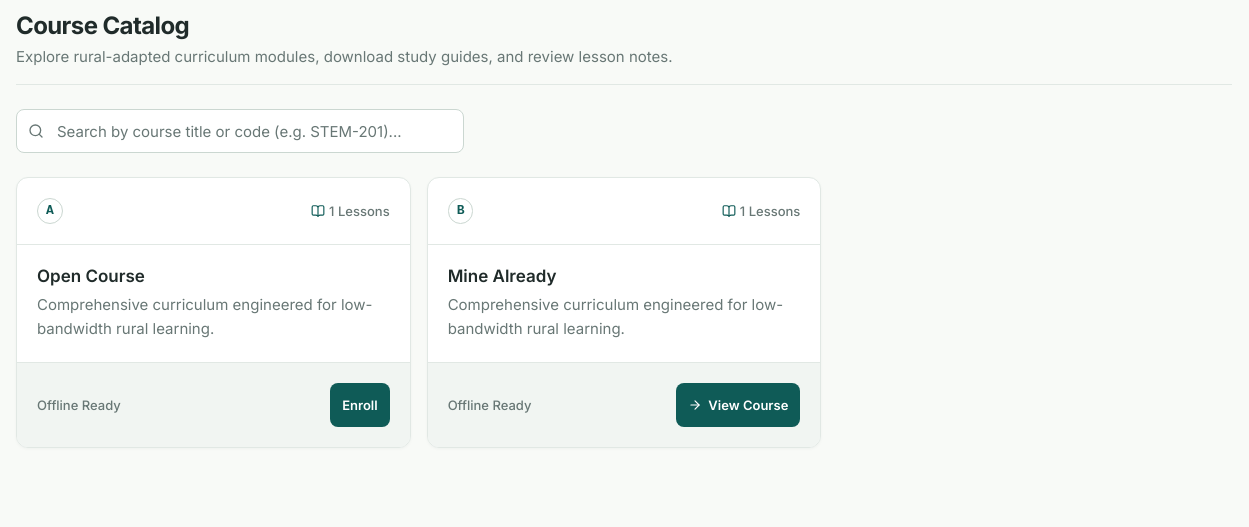
Test: course catalog enroll button › stays on Enroll and shows the error when enrolling fails
The width and height of the screenshot is (1249, 527).
Expected: the heading "Open Course" is shown, 37,266 -> 145,286
Click the button "Enroll" at (360, 404), box 330,382 -> 390,426
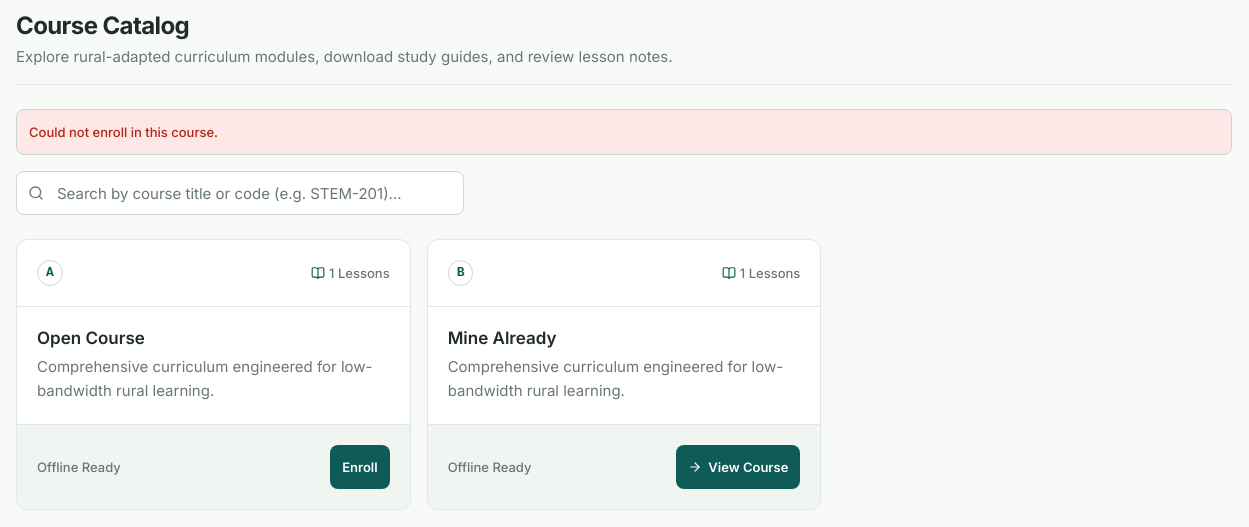
Expected: the button "Enroll" is shown, 330,444 -> 390,488
Now the text "Could not enroll in this course." is shown, box 16,109 -> 1232,155
